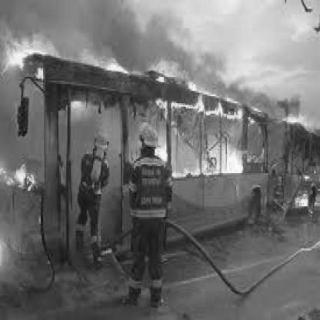Fire: (147, 53, 187, 87), (88, 54, 128, 76)
